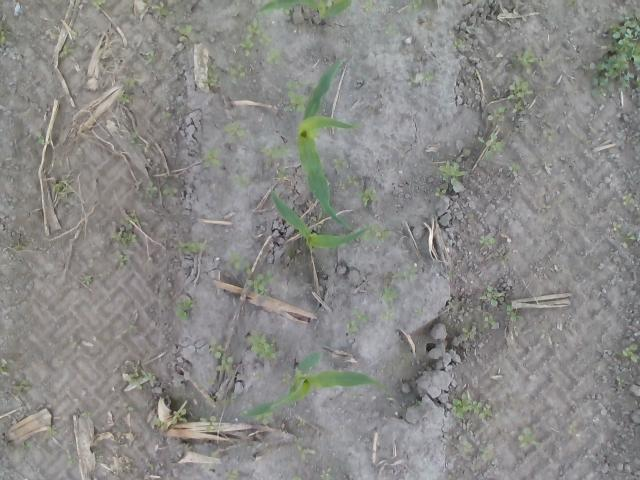Maize: (296, 56, 356, 231), (240, 353, 392, 420), (270, 190, 372, 252), (256, 0, 352, 19)
Weeds: (582, 13, 640, 96), (452, 392, 494, 420), (282, 76, 308, 114), (123, 362, 156, 389), (246, 330, 276, 359), (247, 268, 276, 295), (508, 48, 538, 74), (438, 160, 467, 186), (172, 238, 210, 256), (478, 132, 504, 158), (225, 250, 253, 274), (342, 308, 368, 333), (507, 76, 533, 100), (478, 285, 506, 307), (362, 224, 393, 243), (109, 229, 137, 250), (258, 144, 288, 162), (224, 120, 246, 144), (518, 427, 540, 450), (614, 344, 638, 363), (356, 186, 377, 207), (376, 286, 398, 306), (203, 64, 221, 88), (407, 70, 434, 86), (123, 212, 149, 228), (175, 300, 198, 318), (54, 180, 74, 200), (203, 148, 222, 168), (503, 302, 522, 322), (216, 356, 234, 377), (208, 338, 226, 359), (382, 270, 406, 285), (175, 24, 195, 42), (229, 62, 246, 83), (200, 416, 222, 432), (311, 210, 324, 235), (486, 107, 506, 123), (255, 410, 275, 426), (114, 250, 131, 267), (294, 436, 306, 460), (204, 390, 222, 406), (170, 408, 188, 424), (150, 0, 168, 16), (479, 442, 494, 461), (246, 18, 260, 38), (233, 173, 250, 189), (265, 48, 281, 65), (404, 263, 419, 281), (620, 231, 636, 247), (380, 306, 396, 322), (116, 90, 132, 106), (241, 38, 255, 56), (11, 380, 32, 392), (0, 358, 14, 376), (144, 180, 157, 199), (332, 155, 348, 170), (480, 235, 496, 250), (0, 19, 9, 44), (464, 454, 476, 472), (406, 0, 424, 12), (483, 314, 498, 328), (58, 45, 74, 58), (461, 325, 476, 338), (162, 186, 179, 196), (346, 173, 359, 186), (44, 426, 57, 439), (622, 192, 636, 204), (320, 0, 332, 14), (14, 238, 28, 250), (258, 35, 273, 46), (536, 204, 552, 214), (222, 394, 238, 404), (320, 467, 332, 480), (224, 469, 238, 480), (35, 132, 46, 146), (92, 0, 106, 11), (145, 50, 156, 64), (121, 402, 136, 412), (508, 162, 520, 174), (81, 274, 93, 286), (568, 420, 578, 434), (512, 100, 522, 114), (122, 77, 137, 86), (462, 440, 474, 451), (206, 376, 217, 388), (543, 130, 555, 141), (435, 186, 447, 197), (128, 132, 139, 144), (454, 38, 464, 50), (612, 220, 623, 230), (282, 373, 292, 384), (364, 0, 372, 13), (538, 58, 548, 68), (411, 400, 422, 409), (385, 27, 396, 36), (125, 326, 136, 335), (278, 166, 286, 178), (514, 325, 522, 337), (460, 149, 470, 158), (413, 305, 423, 314), (153, 417, 163, 426), (540, 328, 548, 339), (134, 178, 142, 189), (456, 258, 466, 266), (564, 56, 574, 64), (338, 180, 346, 190), (282, 7, 292, 15), (70, 340, 78, 350), (308, 82, 318, 90), (24, 440, 32, 449), (566, 0, 576, 7), (165, 300, 172, 310), (81, 410, 91, 417), (66, 458, 74, 466), (616, 376, 624, 384), (176, 106, 184, 114), (544, 84, 554, 90), (162, 112, 172, 118), (253, 372, 260, 380), (204, 462, 211, 470), (114, 57, 122, 64), (447, 474, 456, 480), (211, 450, 218, 457), (634, 204, 640, 212), (447, 300, 455, 306), (76, 147, 82, 155), (446, 270, 452, 277), (292, 476, 302, 480), (150, 463, 155, 470), (397, 146, 402, 152)
